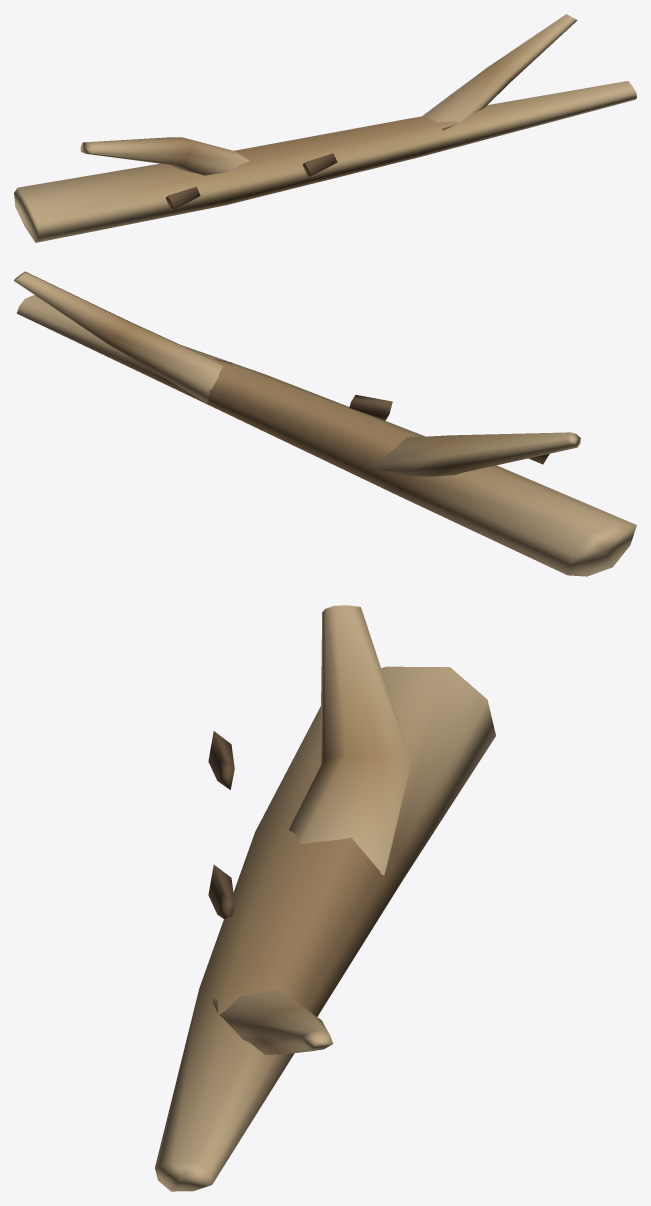
The model's file is beach-debris-branch-v1.glb.
3 views of the same model, one above another, from view 1: azimuth 30°, elevation 25°; view 2: azimuth 150°, elevation 25°; view 3: azimuth 270°, elevation 25° (orthographic). The views are drawn at different scales.
Visible parts, largest first — view 1: beach-debris-branch-v1; view 2: beach-debris-branch-v1; view 3: beach-debris-branch-v1.
Part boxes in pixels (left/top/right/bottom): beach-debris-branch-v1: left=14, top=14, right=636, bottom=242; beach-debris-branch-v1: left=14, top=271, right=636, bottom=576; beach-debris-branch-v1: left=155, top=605, right=495, bottom=1191.
Size of the model in its own units: 1.91 by 0.3695 by 0.5053.
